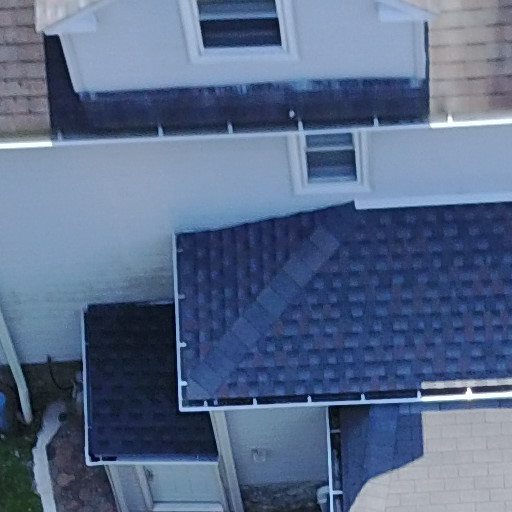gutter: (10, 374, 49, 442)
